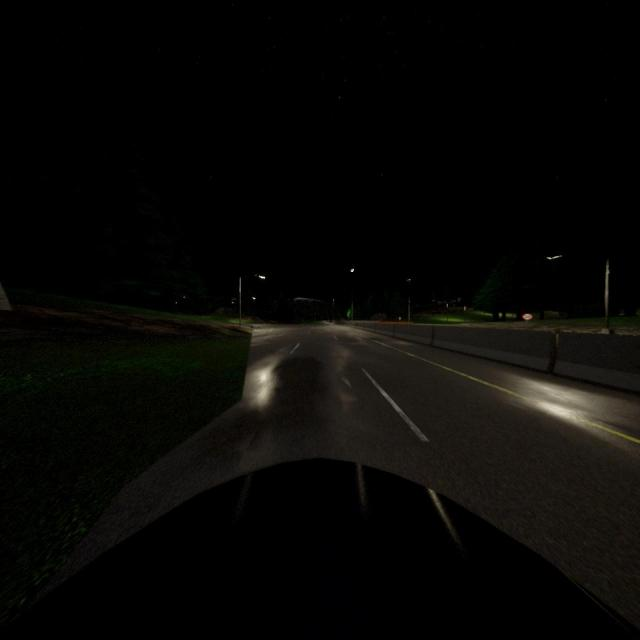Traffic_Signs: (521, 314, 533, 320), (398, 316, 401, 321)
Vehicle: (0, 457, 640, 639)
